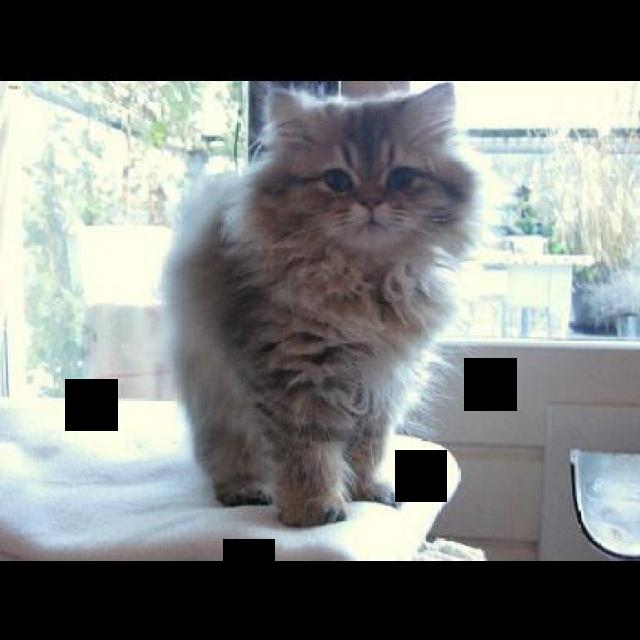unauthorized: (155, 80, 496, 528)
